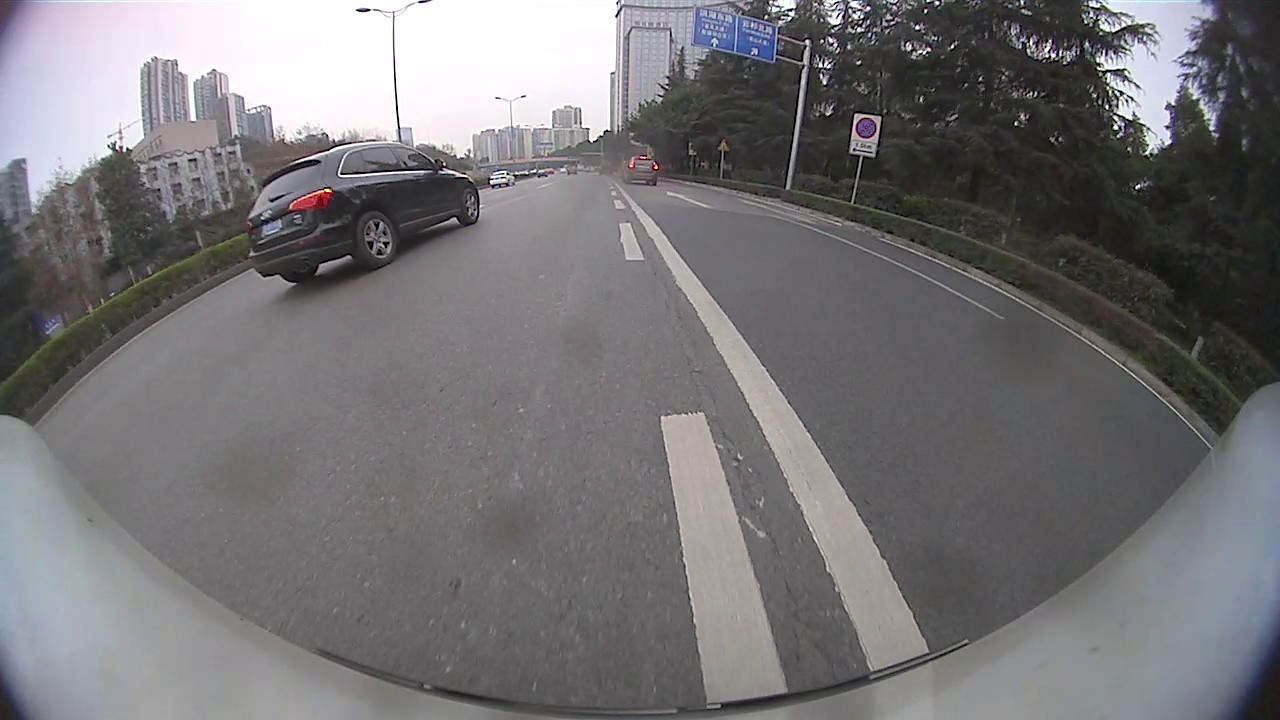car: (244, 140, 481, 284), (621, 153, 660, 186), (487, 168, 516, 188)
front: (462, 189, 481, 225)
rear: (352, 211, 396, 264)
